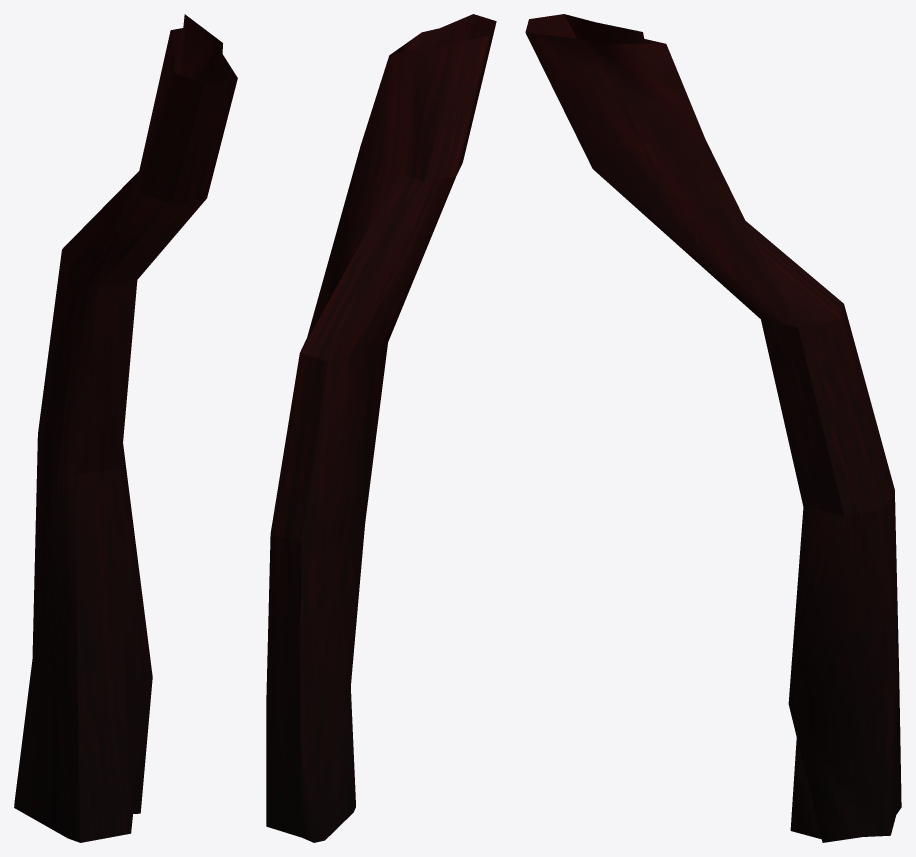
The model's file is jungle_palm_a1_mid.glb.
3 renders of one model, left to right at view 1: azimuth 30°, elevation 25°; view 2: azimuth 150°, elevation 25°; view 3: azimuth 270°, elevation 25°, orthographic. The views are drawn at different scales.
Parts seen in each view (by area): view 1: jungle_palm_a1_mid; view 2: jungle_palm_a1_mid; view 3: jungle_palm_a1_mid.
Part boxes in pixels (<box>): jungle_palm_a1_mid: <box>14,14,237,842</box>; jungle_palm_a1_mid: <box>266,14,496,842</box>; jungle_palm_a1_mid: <box>525,14,901,842</box>.
Size of the model in its own units: 0.2982 by 2.22 by 0.9707.
Materials: 1 (1 with a texture image).
